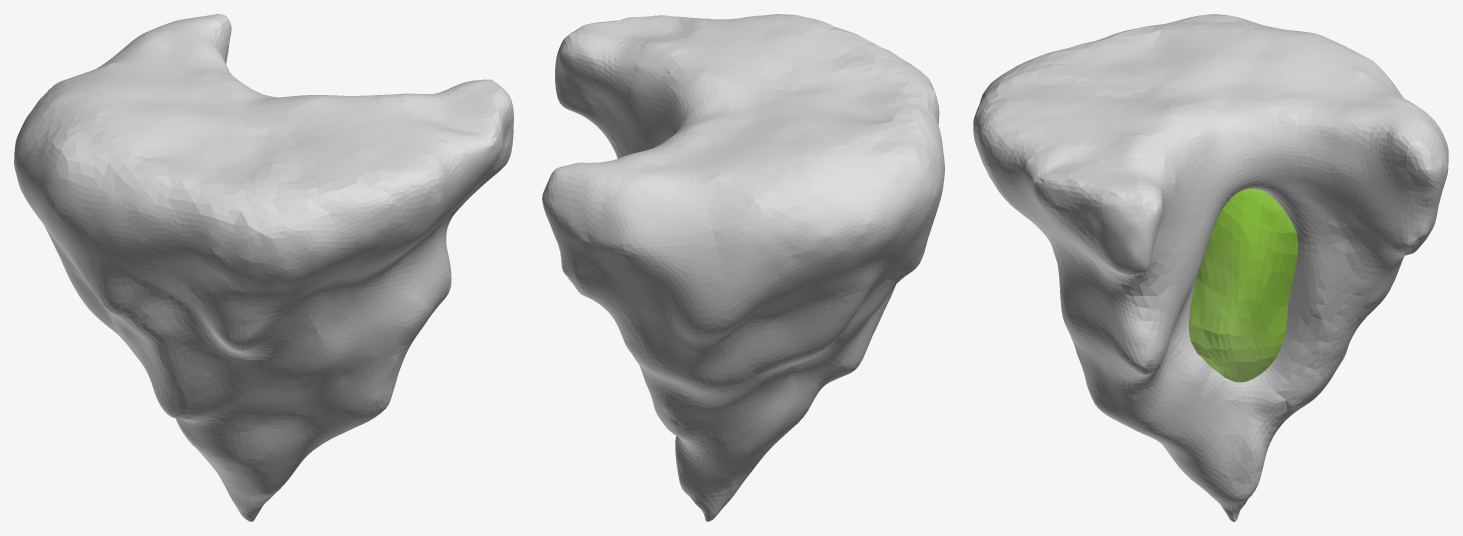
File: Tsuku_Kami_Ishi.fbx
3 renders of one model, left to right at view 1: azimuth 30°, elevation 25°; view 2: azimuth 150°, elevation 25°; view 3: azimuth 270°, elevation 25°, orthographic. The views are drawn at different scales.
Visible parts, largest first — view 1: Tsukukamiishi; view 2: Tsukukamiishi; view 3: Tsukukamiishi.
Part boxes in pixels (left/top/right/bottom): Tsukukamiishi: left=14, top=14, right=513, bottom=521; Tsukukamiishi: left=542, top=14, right=944, bottom=521; Tsukukamiishi: left=973, top=14, right=1448, bottom=521.
Size of the model in its own units: 29221 by 28679 by 29052.
